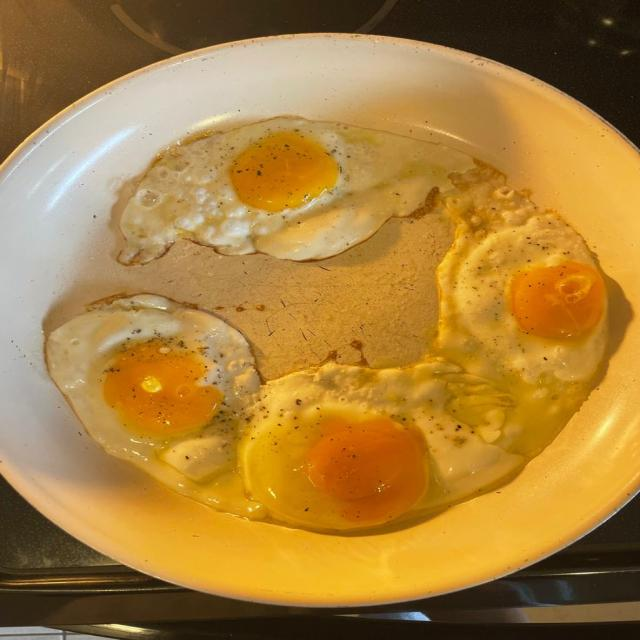fryed egg: (119, 117, 473, 264), (436, 168, 607, 454), (239, 359, 523, 531), (47, 295, 263, 517)
